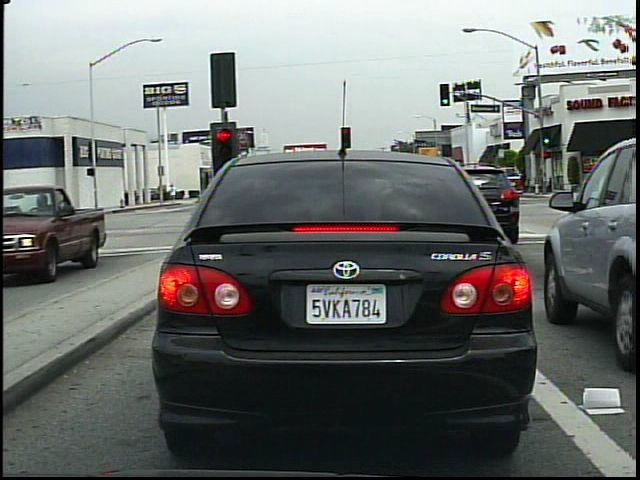person: (167, 180, 180, 206)
